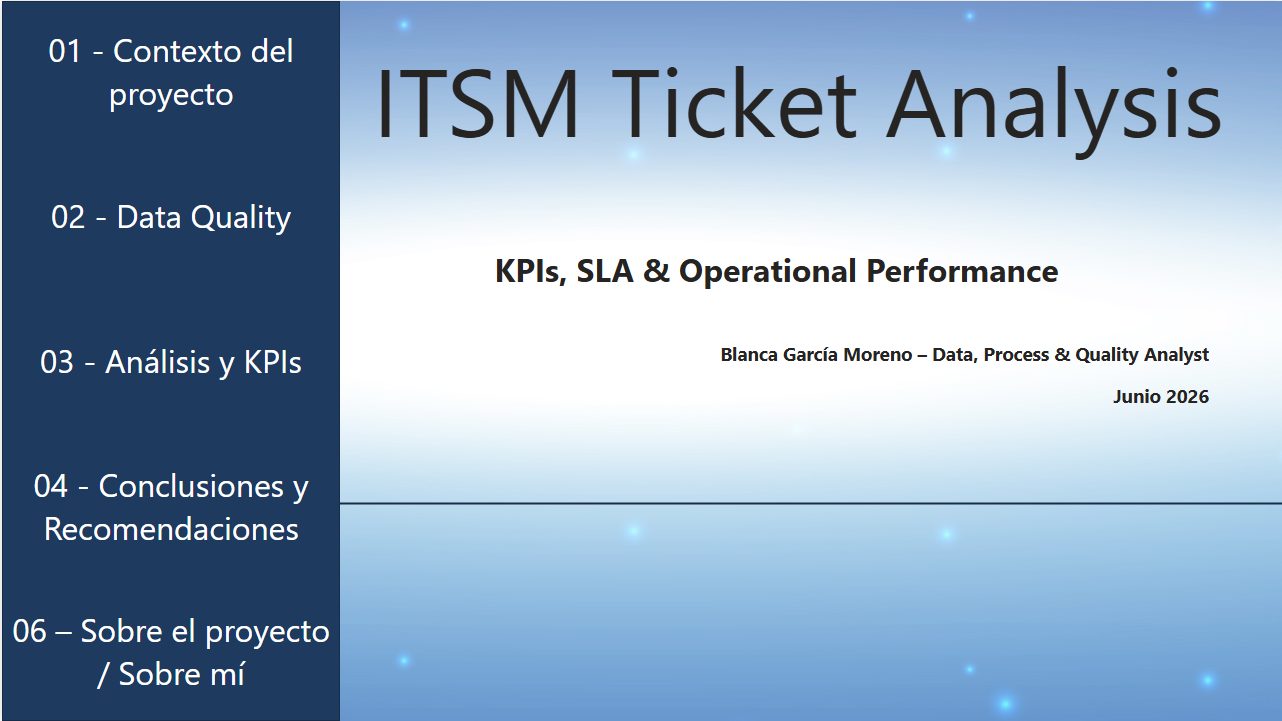

What the dashboard file says about the page in this screenshot:
{"tool":"powerbi","page":{"name":"Portada","canvas":[1280,720],"ordinal":0},"visuals":[{"type":"shape","box":[0,0,337.5,720],"z":0},{"type":"textbox","box":[338.5,26.7,916.9,160],"z":1000},{"type":"textbox","box":[337.4,241.5,874.2,238.3],"z":2000},{"type":"shape","box":[337.4,479.8,942.7,45.3],"z":3000},{"type":"pageNavigator","box":[0,1.2,337.5,718.8],"z":3001}]}

Visuals, with their boxes in screenshot pixels (x1, y1, x2, y2), scaled from the page's 1280x720 canvas onto the 1282x721 screenshot:
shape: x1=0, y1=0, x2=338, y2=720
textbox: x1=339, y1=27, x2=1257, y2=187
textbox: x1=338, y1=242, x2=1213, y2=480
shape: x1=338, y1=480, x2=1281, y2=526
pageNavigator: x1=0, y1=1, x2=338, y2=720
